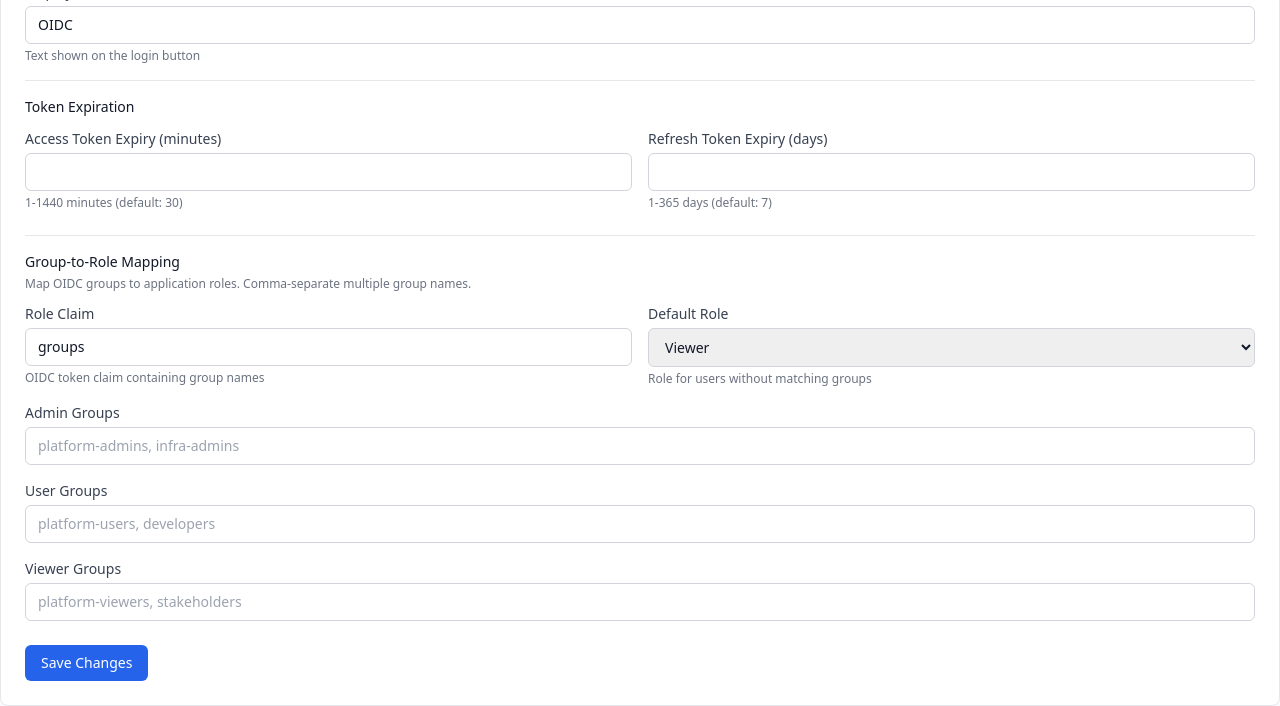
SettingsPage › admin users › shows error message when save fails
This screenshot has width=1280, height=706.
(page scrolled)
What coordinates should you click on to do the following:
click the button "Save Changes"
I would click on:
 (87, 663)
Its box is top-left (25, 645), bottom-right (148, 681).
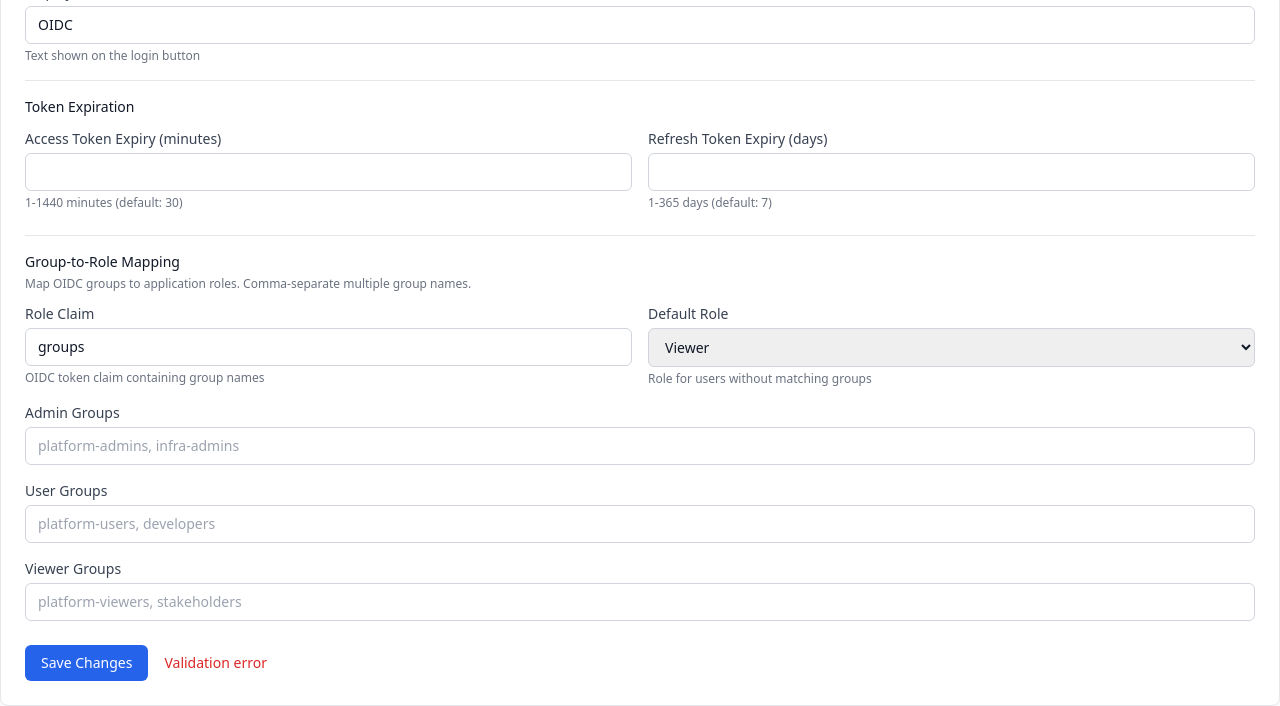
Now the text "Validation error" is shown, box top-left (164, 653), bottom-right (267, 673)
